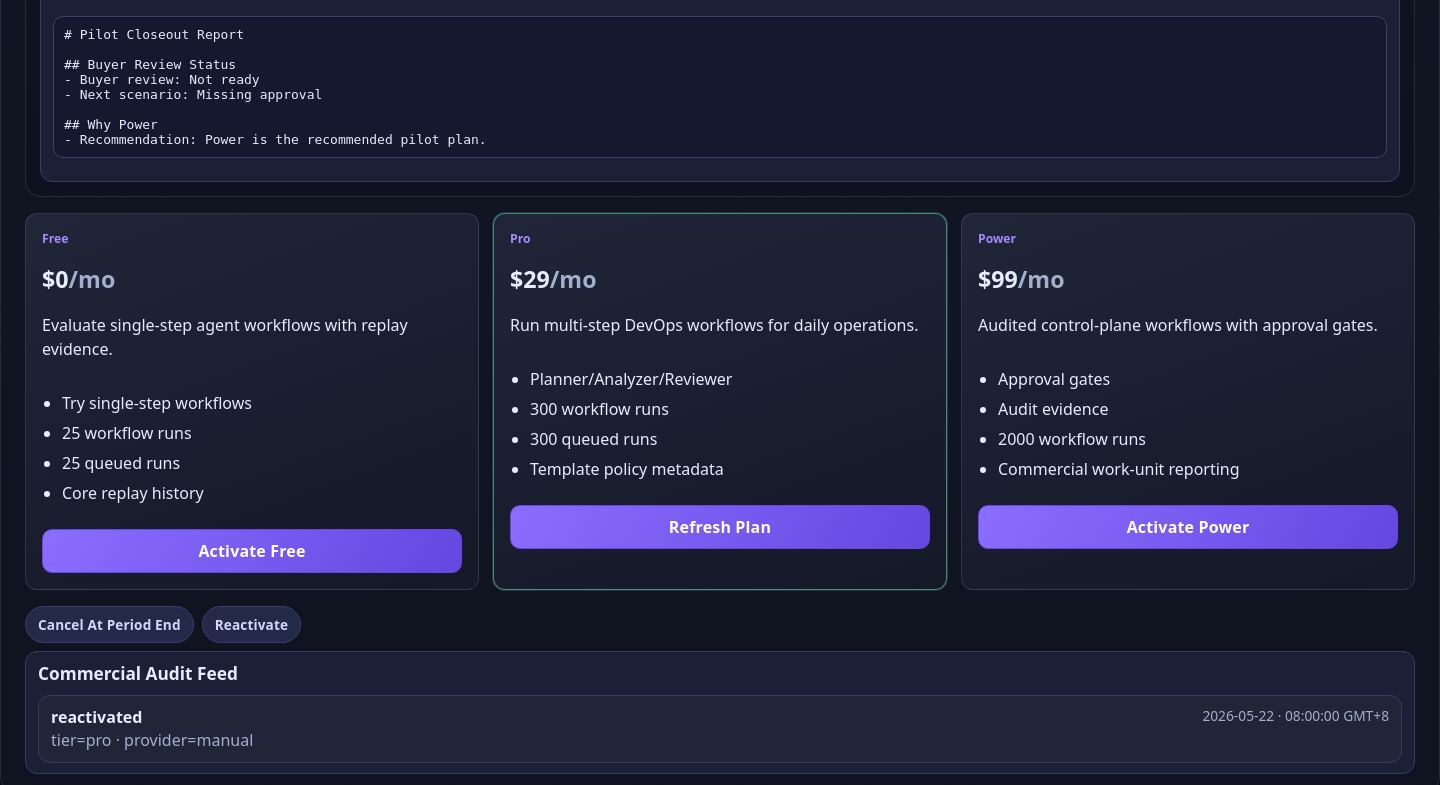
Test case: monetization flow › cancel and reactivate subscription controls update visible state
This screenshot has width=1440, height=785.
(page scrolled)
Click the button "Cancel At Period End" at [109, 624], box [25,606,194,642]
(page scrolled)
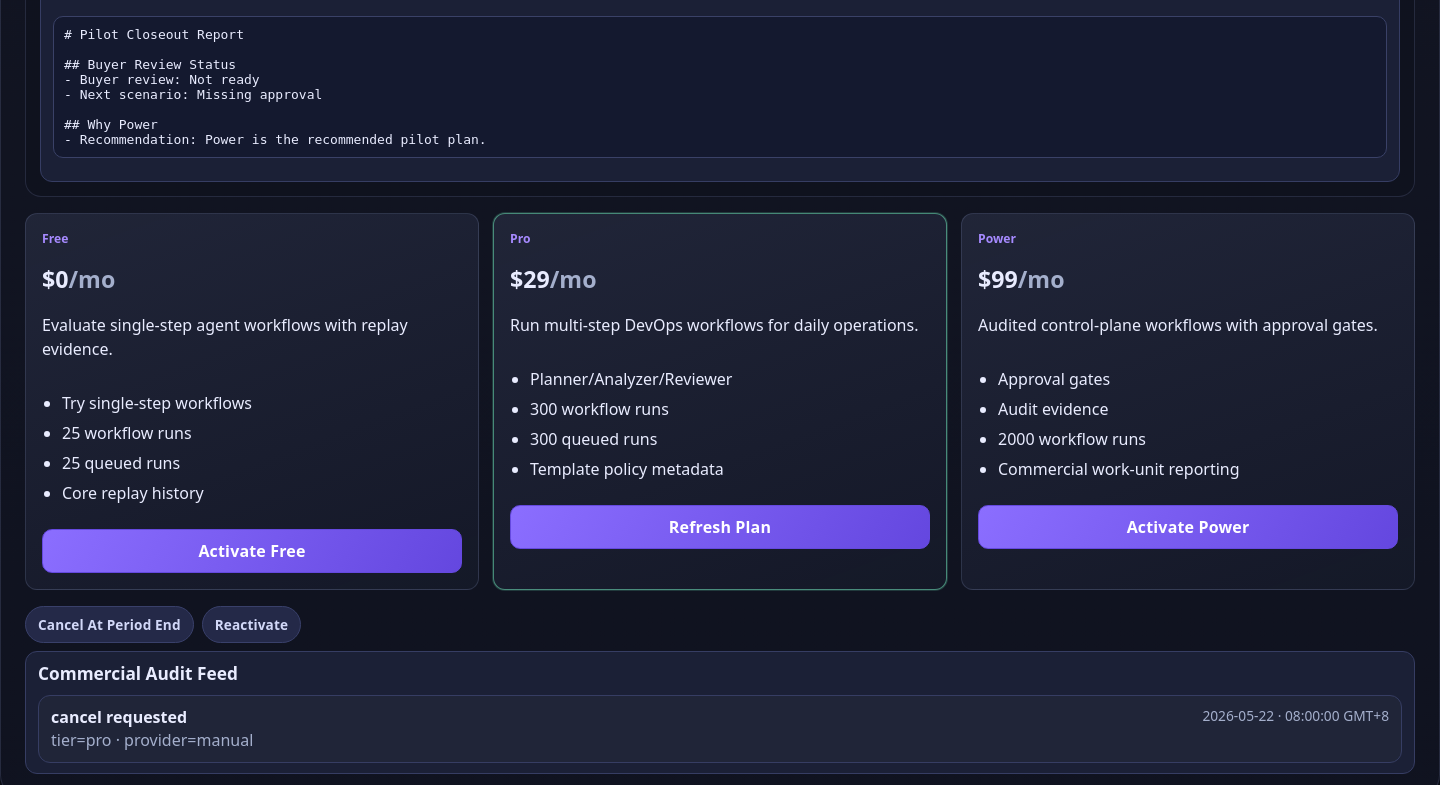
Click the button "Reactivate" at [251, 624], box [202,606,301,643]
(page scrolled)
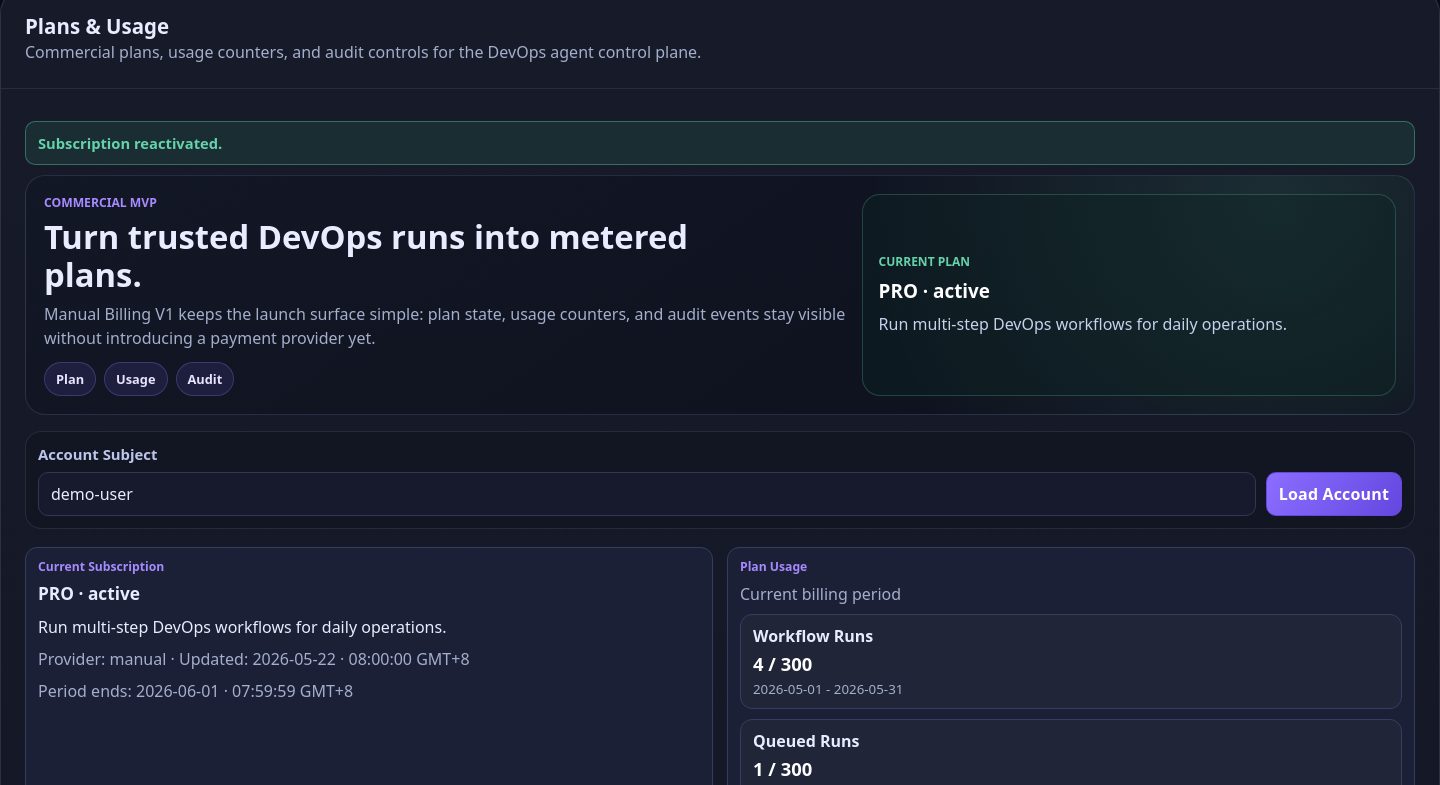
Check: the text "Subscription reactivated." is shown, box [25,121,1415,165]
